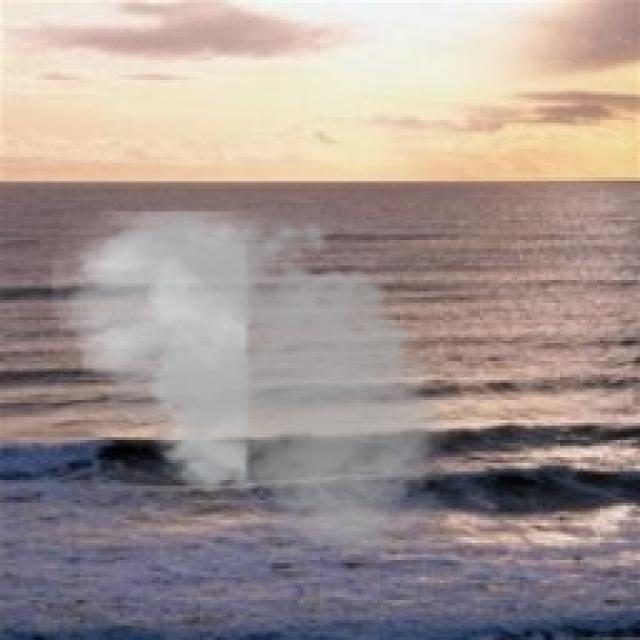Smoke: (51, 197, 466, 560)
